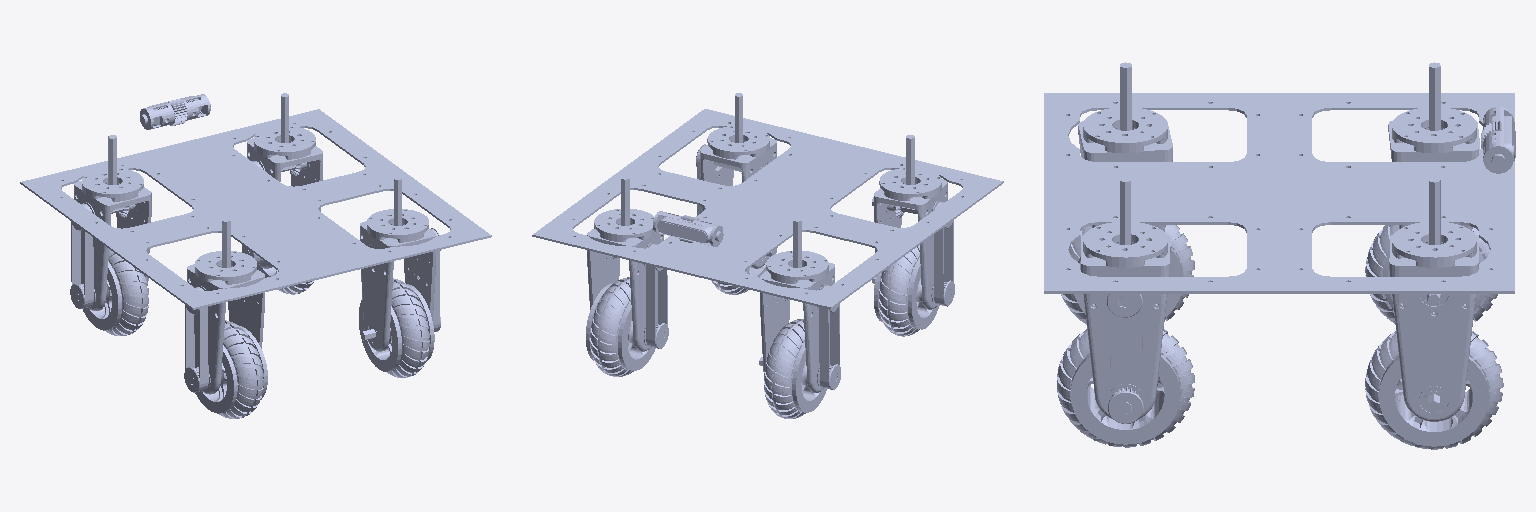
The robot description file, URDF, robot "hermes_robot_description":
<?xml version="1.0" encoding="utf-8"?>
<!-- This URDF was automatically created by SolidWorks to URDF Exporter! Originally created by
[author] ([email redacted]) 
     Commit Version: 1.6.0-4-g7f85cfe  Build Version: 1.6.7995.38578
     For more information, please see http://wiki.ros.org/sw_urdf_exporter -->
<robot
  name="hermes_robot_description">
  <!-- Base Footprint -->
  <joint name="base_footprint_joint" type="fixed">
    <parent link="base_footprint" />
    <child link="base_link" />
    <origin xyz="0 0 0" rpy="0 0 0" />
  </joint>
  <link name="base_footprint">
  </link>
  <!-- End of Base Footprint -->
  <link
    name="base_link">
    <inertial>
      <origin
        xyz="7.96027345322404E-06 0.00267876360260728 0.0437561412092237"
        rpy="0 0 0" />
      <mass
        value="5.83594079476047" />
      <inertia
        ixx="0.0262320539772903"
        ixy="2.83128720780491E-06"
        ixz="1.72796857650756E-08"
        iyy="0.0221066349182729"
        iyz="9.51545100183853E-09"
        izz="0.0463251880864419" />
    </inertial>
    <visual>
      <origin
        xyz="0 0 0"
        rpy="0 0 0" />
      <geometry>
        <mesh
          filename="package://hermes_robot_description/meshes/base_link.STL" />
      </geometry>
      <material
        name="">
        <color
          rgba="0.792156862745098 0.819607843137255 0.933333333333333 1" />
      </material>
    </visual>
    <collision>
      <origin
        xyz="0 0 0"
        rpy="0 0 0" />
      <geometry>
        <mesh
          filename="package://hermes_robot_description/meshes/base_link.STL" />
      </geometry>
    </collision>
  </link>
  <link
    name="Revolve1">
    <inertial>
      <origin
        xyz="-0.00330526162854908 -0.000113326386827706 -0.12936024003018"
        rpy="0 0 0" />
      <mass
        value="0.360615727575473" />
      <inertia
        ixx="0.000866448995447055"
        ixy="1.43445064537622E-06"
        ixz="4.46493221125416E-08"
        iyy="0.0010119628351452"
        iyz="-3.11537804771866E-07"
        izz="0.000498205901651864" />
    </inertial>
    <visual>
      <origin
        xyz="0 0 0"
        rpy="0 0 0" />
      <geometry>
        <mesh
          filename="package://hermes_robot_description/meshes/Revolve1.STL" />
      </geometry>
      <material
        name="">
        <color
          rgba="0.792156862745098 0.819607843137255 0.933333333333333 1" />
      </material>
    </visual>
    <collision>
      <origin
        xyz="0 0 0"
        rpy="0 0 0" />
      <geometry>
        <mesh
          filename="package://hermes_robot_description/meshes/Revolve1.STL" />
      </geometry>
    </collision>
  </link>
  <joint
    name="Joint_Revolve1"
    type="continuous">
    <origin
      xyz="0.14293 0.16281 0.080887"
      rpy="0 0 0" />
    <parent
      link="base_link" />
    <child
      link="Revolve1" />
    <axis
      xyz="0 0 -1" />
    <limit
      lower="-6.28"
      upper="6.28"
      effort="50"
      velocity="20" />
  </joint>
  <link
    name="Drive1">
    <inertial>
      <origin
        xyz="-0.0569131612299077 0.000335522483649792 -0.000410926164939512"
        rpy="0 0 0" />
      <mass
        value="0.63490886843573" />
      <inertia
        ixx="0.00157009314369376"
        ixy="-6.85299738088303E-06"
        ixz="3.95514016843013E-09"
        iyy="0.000875638707740947"
        iyz="3.82089458087413E-07"
        izz="0.000876108825829738" />
    </inertial>
    <visual>
      <origin
        xyz="0 0 0"
        rpy="0 0 0" />
      <geometry>
        <mesh
          filename="package://hermes_robot_description/meshes/Drive1.STL" />
      </geometry>
      <material
        name="">
        <color
          rgba="0.792156862745098 0.819607843137255 0.933333333333333 1" />
      </material>
    </visual>
    <collision>
      <origin
        xyz="0 0 0"
        rpy="0 0 0" />
      <geometry>
        <mesh
          filename="package://hermes_robot_description/meshes/Drive1.STL" />
      </geometry>
    </collision>
  </link>
  <joint
    name="Joint_Drive1"
    type="continuous">
    <origin
      xyz="0.058214 -0.00060576 -0.23703"
      rpy="0 0 0" />
    <parent
      link="Revolve1" />
    <child
      link="Drive1" />
    <axis
      xyz="-0.99995 0.0098663 0" />
    <limit
      lower="0"
      upper="0"
      effort="50"
      velocity="20" />
  </joint>
  <link
    name="Revolve2">
    <inertial>
      <origin
        xyz="0.00293343302999416 0.000123773024353679 -0.129541857886687"
        rpy="0 0 0" />
      <mass
        value="0.35662955912804" />
      <inertia
        ixx="0.000865930640437375"
        ixy="1.09063403993617E-06"
        ixz="-4.53834609389432E-08"
        iyy="0.00101169229109942"
        iyz="3.11434171867246E-07"
        izz="0.000497929383773699" />
    </inertial>
    <visual>
      <origin
        xyz="0 0 0"
        rpy="0 0 0" />
      <geometry>
        <mesh
          filename="package://hermes_robot_description/meshes/Revolve2.STL" />
      </geometry>
      <material
        name="">
        <color
          rgba="0.792156862745098 0.819607843137255 0.933333333333333 1" />
      </material>
    </visual>
    <collision>
      <origin
        xyz="0 0 0"
        rpy="0 0 0" />
      <geometry>
        <mesh
          filename="package://hermes_robot_description/meshes/Revolve2.STL" />
      </geometry>
    </collision>
  </link>
  <joint
    name="Joint_Revolve2"
    type="continuous">
    <origin
      xyz="0.14237 -0.16281 0.080887"
      rpy="0 0 0" />
    <parent
      link="base_link" />
    <child
      link="Revolve2" />
    <axis
      xyz="0 0 -1" />
    <limit
      lower="-6.28"
      upper="6.28"
      effort="50"
      velocity="20" />
  </joint>
  <link
    name="Drive2">
    <inertial>
      <origin
        xyz="-0.0630828349978768 0.000698623255382169 -0.000410926168290859"
        rpy="0 0 0" />
      <mass
        value="0.634908871563249" />
      <inertia
        ixx="0.00157012177717613"
        ixy="-5.20374912355723E-06"
        ixz="-3.04809767475515E-09"
        iyy="0.000875610076231738"
        iyz="-3.8209811580205E-07"
        izz="0.000876108826794846" />
    </inertial>
    <visual>
      <origin
        xyz="0 0 0"
        rpy="0 0 0" />
      <geometry>
        <mesh
          filename="package://hermes_robot_description/meshes/Drive2.STL" />
      </geometry>
      <material
        name="">
        <color
          rgba="0.792156862745098 0.819607843137255 0.933333333333333 1" />
      </material>
    </visual>
    <collision>
      <origin
        xyz="0 0 0"
        rpy="0 0 0" />
      <geometry>
        <mesh
          filename="package://hermes_robot_description/meshes/Drive2.STL" />
      </geometry>
    </collision>
  </link>
  <joint
    name="Joint_Drive2"
    type="continuous">
    <origin
      xyz="0.0617812221879258 -0.000431473668773497 -0.237027607087667"
      rpy="0 0 0" />
    <parent
      link="Revolve2" />
    <child
      link="Drive2" />
    <axis
      xyz="-1 0 0" />
    <limit
      lower="0"
      upper="0"
      effort="50"
      velocity="20" />
  </joint>
  <link
    name="Revolve3">
    <inertial>
      <origin
        xyz="-0.00327313554520364 -0.000473427489680461 -0.129360249577479"
        rpy="0 0 0" />
      <mass
        value="0.360615750151738" />
      <inertia
        ixx="0.000867871006099278"
        ixy="-1.43872672154306E-05"
        ixz="7.82144171103749E-08"
        iyy="0.00101054062876924"
        iyz="-3.04975648895368E-07"
        izz="0.000498206051923298" />
    </inertial>
    <visual>
      <origin
        xyz="0 0 0"
        rpy="0 0 0" />
      <geometry>
        <mesh
          filename="package://hermes_robot_description/meshes/Revolve3.STL" />
      </geometry>
      <material
        name="">
        <color
          rgba="0.792156862745098 0.819607843137255 0.933333333333333 1" />
      </material>
    </visual>
    <collision>
      <origin
        xyz="0 0 0"
        rpy="0 0 0" />
      <geometry>
        <mesh
          filename="package://hermes_robot_description/meshes/Revolve3.STL" />
      </geometry>
    </collision>
  </link>
  <joint
    name="Joint_Revolve3"
    type="continuous">
    <origin
      xyz="-0.14238 -0.16246 0.080887"
      rpy="0 0 0" />
    <parent
      link="base_link" />
    <child
      link="Revolve3" />
    <axis
      xyz="0 0 -1" />
    <limit
      lower="-6.28"
      upper="6.28"
      effort="50"
      velocity="20" />
  </joint>
  <link
    name="Drive3">
    <inertial>
      <origin
        xyz="0.0627967378941705 0.00604167341527931 -0.000410929725528447"
        rpy="0 0 0" />
      <mass
        value="0.634908725633114" />
      <inertia
        ixx="0.00156330709888045"
        ixy="6.86543308803907E-05"
        ixz="-3.77732992474278E-08"
        iyy="0.000882424512726853"
        iyz="3.80286982168367E-07"
        izz="0.000876108783202714" />
    </inertial>
    <visual>
      <origin
        xyz="0 0 0"
        rpy="0 0 0" />
      <geometry>
        <mesh
          filename="package://hermes_robot_description/meshes/Drive3.STL" />
      </geometry>
      <material
        name="">
        <color
          rgba="0.792156862745098 0.819607843137255 0.933333333333333 1" />
      </material>
    </visual>
    <collision>
      <origin
        xyz="0 0 0"
        rpy="0 0 0" />
      <geometry>
        <mesh
          filename="package://hermes_robot_description/meshes/Drive3.STL" />
      </geometry>
    </collision>
  </link>
  <joint
    name="Joint_Drive3"
    type="continuous">
    <origin
      xyz="-0.0614740204971197 -0.0061683010963027 -0.237027607087665"
      rpy="0 0 0" />
    <parent
      link="Revolve3" />
    <child
      link="Drive3" />
    <axis
      xyz="-0.995054216106331 -0.0993333126851991 0" />
    <limit
      lower="0"
      upper="0"
      effort="50"
      velocity="20" />
  </joint>
  <link
    name="Revolve4">
    <inertial>
      <origin
        xyz="-0.00292246160250009 -0.00028181299162458 -0.129541866870304"
        rpy="0 0 0" />
      <mass
        value="0.356629579543393" />
      <inertia
        ixx="0.000866240775757233"
        ixy="-6.76451472739006E-06"
        ixz="6.29978268598607E-08"
        iyy="0.00101138894722501"
        iyz="-3.10359338661498E-07"
        izz="0.000497931449955283" />
    </inertial>
    <visual>
      <origin
        xyz="0 0 0"
        rpy="0 0 0" />
      <geometry>
        <mesh
          filename="package://hermes_robot_description/meshes/Revolve4.STL" />
      </geometry>
      <material
        name="">
        <color
          rgba="0.792156862745098 0.819607843137255 0.933333333333333 1" />
      </material>
    </visual>
    <collision>
      <origin
        xyz="0 0 0"
        rpy="0 0 0" />
      <geometry>
        <mesh
          filename="package://hermes_robot_description/meshes/Revolve4.STL" />
      </geometry>
    </collision>
  </link>
  <joint
    name="Joint_Revolve4"
    type="continuous">
    <origin
      xyz="-0.14238 0.16283 0.080887"
      rpy="0 0 0" />
    <parent
      link="base_link" />
    <child
      link="Revolve4" />
    <axis
      xyz="0 0 -1" />
    <limit
      lower="-6.28"
      upper="6.28"
      effort="50"
      velocity="20" />
  </joint>
  <link
    name="Drive4">
    <inertial>
      <origin
        xyz="-0.0607987445014714 -0.00304784974714295 -0.000394638531493491"
        rpy="0 0 0" />
      <mass
        value="0.516814674773903" />
      <inertia
        ixx="0.00139361456190444"
        ixy="2.86772411327649E-05"
        ixz="1.22281649358375E-07"
        iyy="0.0007796789234529"
        iyz="1.96927193653209E-07"
        izz="0.000778611280137647" />
    </inertial>
    <visual>
      <origin
        xyz="0 0 0"
        rpy="0 0 0" />
      <geometry>
        <mesh
          filename="package://hermes_robot_description/meshes/Drive4.STL" />
      </geometry>
      <material
        name="">
        <color
          rgba="0.792156862745098 0.819607843137255 0.933333333333333 1" />
      </material>
    </visual>
    <collision>
      <origin
        xyz="0 0 0"
        rpy="0 0 0" />
      <geometry>
        <mesh
          filename="package://hermes_robot_description/meshes/Drive4.STL" />
      </geometry>
    </collision>
  </link>
  <joint
    name="Joint_Drive4"
    type="continuous">
    <origin
      xyz="0.0581559218672338 0.00267275743362028 -0.237027607087664"
      rpy="0 0 0" />
    <parent
      link="Revolve4" />
    <child
      link="Drive4" />
    <axis
      xyz="-0.998920691338622 -0.0464483844236803 0" />
    <limit
      lower="0"
      upper="0"
      effort="50"
      velocity="20" />
  </joint>
  <link
    name="Camera_pivot">
    <inertial>
      <origin
        xyz="-0.0555938848411197 0.000418614354003276 -0.00327348513176728"
        rpy="0 0 0" />
      <mass
        value="1.2878670523968" />
      <inertia
        ixx="0.000117585935949458"
        ixy="-1.49741441165642E-06"
        ixz="1.12423158524668E-05"
        iyy="0.000794899141050403"
        iyz="7.61075263134137E-07"
        izz="0.000787886593810218" />
    </inertial>
    <visual>
      <origin
        xyz="0 0 0"
        rpy="0 0 0" />
      <geometry>
        <mesh
          filename="package://hermes_robot_description/meshes/Camera_pivot.STL" />
      </geometry>
      <material
        name="">
        <color
          rgba="0.792156862745098 0.819607843137255 0.933333333333333 1" />
      </material>
    </visual>
    <collision>
      <origin
        xyz="0 0 0"
        rpy="0 0 0" />
      <geometry>
        <mesh
          filename="package://hermes_robot_description/meshes/Camera_pivot.STL" />
      </geometry>
    </collision>
  </link>
  <joint
    name="Camera_pivot_joint"
    type="revolute">
    <origin
      xyz="0.0543500000000001 0.230150000000001 0.0600000000000003"
      rpy="1.5707963267949 0 0" />
    <parent
      link="base_link" />
    <child
      link="Camera_pivot" />
    <axis
      xyz="1 0 0" />
    <limit
      lower="0"
      upper="0"
      effort="20"
      velocity="10" />
  </joint>
  <link
    name="CameraVision">
    <inertial>
      <origin
        xyz="-3.83265467973626E-17 -6.77896212537346E-05 -0.000495383252896442"
        rpy="0 0 0" />
      <mass
        value="0.00122306679751053" />
      <inertia
        ixx="2.45260777746173E-08"
        ixy="1.49835825799552E-22"
        ixz="-7.43449114089117E-22"
        iyy="6.15023324061755E-07"
        iyz="3.26714169017072E-09"
        izz="6.38451387870187E-07" />
    </inertial>
    <visual>
      <origin
        xyz="0 0 0"
        rpy="0 0 0" />
      <geometry>
        <mesh
          filename="package://hermes_robot_description/meshes/CameraVision.STL" />
      </geometry>
      <material
        name="">
        <color
          rgba="0.792156862745098 0.819607843137255 0.933333333333333 1" />
      </material>
    </visual>
    <collision>
      <origin
        xyz="0 0 0"
        rpy="0 0 0" />
      <geometry>
        <mesh
          filename="package://hermes_robot_description/meshes/CameraVision.STL" />
      </geometry>
    </collision>
  </link>
  <joint
    name="CameraVisionJoint"
    type="fixed">
    <origin
      xyz="-0.0544999999999996 0.00230701639050734 -0.0168588828625726"
      rpy="3.14159265358979 0 3.14159265358979" />
    <parent
      link="Camera_pivot" />
    <child
      link="CameraVision" />
    <axis
      xyz="0 0 0" />
    <limit
      effort="20"
      velocity="10" />
  </joint>
</robot>

--- What the picture shows (computed from the rendered views, not written in the file) ---
The picture shows the robot from 3 angles, left to right: view 1: azimuth 30°, elevation 25°; view 2: azimuth 150°, elevation 25°; view 3: azimuth 270°, elevation 25°; orthographic projection.
Model hermes_robot_description with 12 links and 11 joints (1 revolute, 8 continuous, 2 fixed), rooted at base_footprint, posed every joint at zero.
Visible links, largest first — view 1: base_link, Revolve3, Revolve2, Revolve4, Drive3, Drive2, Revolve1, Drive4, Camera_pivot; view 2: base_link, Revolve4, Revolve1, Revolve3, Drive1, Drive4, Revolve2, Drive3, Camera_pivot; view 3: base_link, Revolve1, Revolve2, Drive2, Drive1, Revolve3, Revolve4, Drive3, Drive4, Camera_pivot.
Link boxes in pixels (left/top/right/bottom): base_link: left=20, top=109, right=491, bottom=309; Revolve3: left=185, top=218, right=264, bottom=394; Revolve2: left=360, top=176, right=440, bottom=351; Revolve4: left=71, top=135, right=151, bottom=310; Drive3: left=184, top=320, right=267, bottom=418; Drive2: left=359, top=278, right=440, bottom=377; Revolve1: left=247, top=93, right=322, bottom=268; Drive4: left=70, top=249, right=148, bottom=335; Camera_pivot: left=140, top=94, right=210, bottom=129; base_link: left=532, top=109, right=1003, bottom=308; Revolve4: left=760, top=218, right=839, bottom=392; Revolve1: left=587, top=176, right=667, bottom=351; Revolve3: left=872, top=135, right=953, bottom=309; Drive1: left=586, top=277, right=668, bottom=376; Drive4: left=759, top=319, right=840, bottom=418; Revolve2: left=696, top=93, right=776, bottom=268; Drive3: left=872, top=245, right=954, bottom=336; Camera_pivot: left=653, top=211, right=723, bottom=246; base_link: left=1044, top=93, right=1514, bottom=293; Revolve1: left=1389, top=177, right=1478, bottom=421; Revolve2: left=1081, top=177, right=1170, bottom=418; Drive2: left=1057, top=329, right=1194, bottom=447; Drive1: left=1365, top=331, right=1503, bottom=449; Revolve3: left=1078, top=62, right=1172, bottom=231; Revolve4: left=1388, top=62, right=1479, bottom=230; Drive3: left=1061, top=225, right=1194, bottom=324; Drive4: left=1365, top=225, right=1497, bottom=323; Camera_pivot: left=1481, top=107, right=1514, bottom=173.
Size in the robot's own frame: 0.4953 by 0.4963 by 0.3103 metres.
Meshes: 11 distinct files referenced, 11 mesh visuals loaded (11 binary STL).